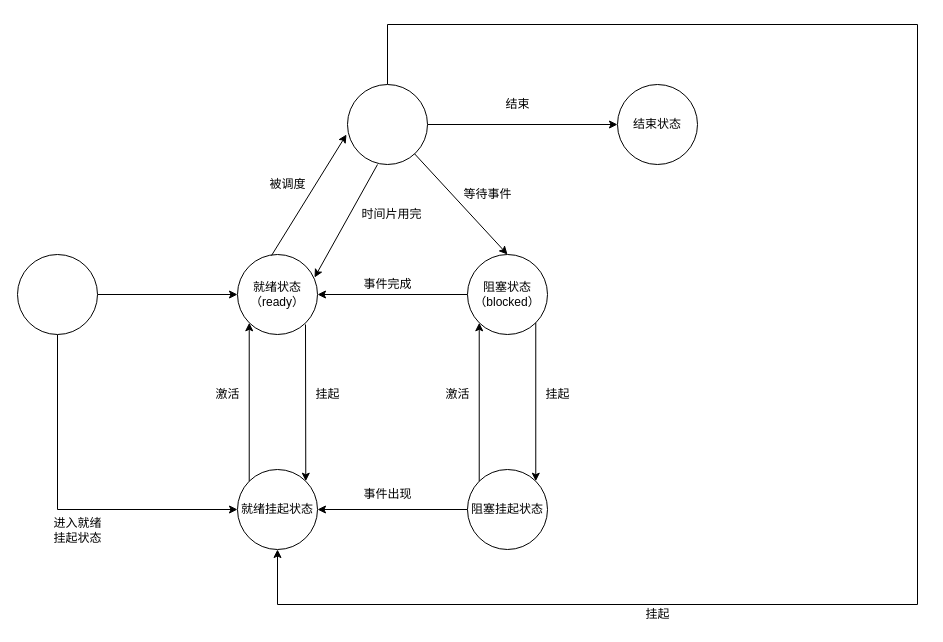
Some shapes in this 943 by 642 pixel diagram are drawn without their labels. Each missing label, with the centre of its shape:
创建状态 （new）: pixel 57 294
运行状态 （running）: pixel 387 124
